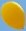Balloon: (1, 2, 25, 30)
